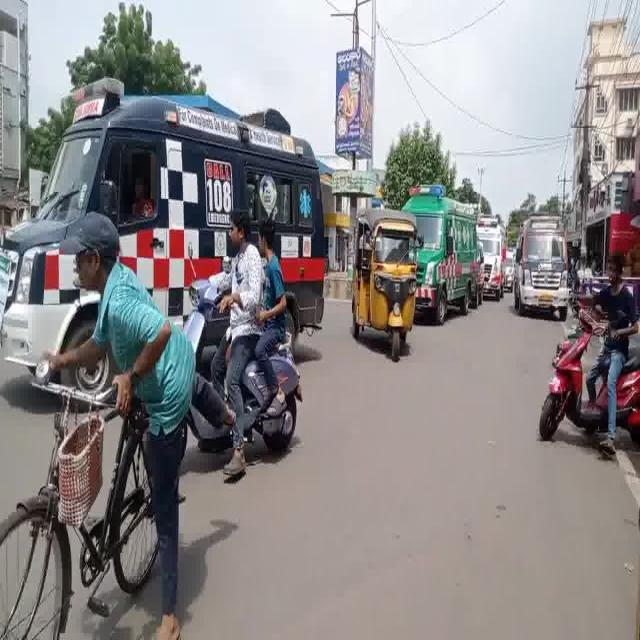ambulance: (14, 67, 341, 209), (418, 177, 476, 332), (511, 205, 576, 322), (398, 196, 512, 229), (488, 186, 506, 326)
